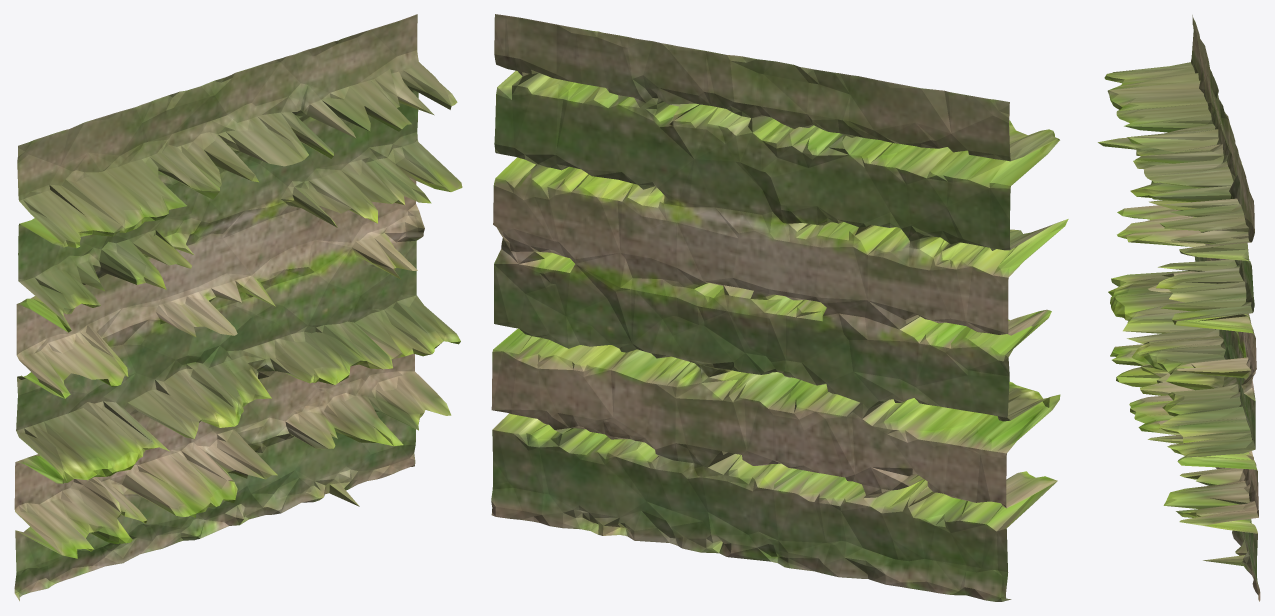
File: map_160_30.obj
3 renders of one model, left to right at view 1: azimuth 30°, elevation 25°; view 2: azimuth 150°, elevation 25°; view 3: azimuth 270°, elevation 25°, orthographic. The views are drawn at different scales.
Parts seen in each view (by area): view 1: grp1; view 2: grp1; view 3: grp1.
Boxes of the visible parts, box(x1,y1,x2,y2) form: grp1: box(14, 14, 462, 601); grp1: box(491, 14, 1068, 601); grp1: box(1098, 15, 1260, 601).
Bounding box in the file's own units: 10 × 10 × 3.68.
1 material, 1 textured.
